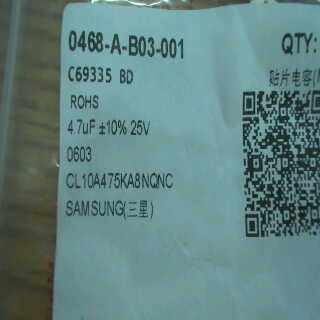4.7uF: (64, 116, 98, 141)
